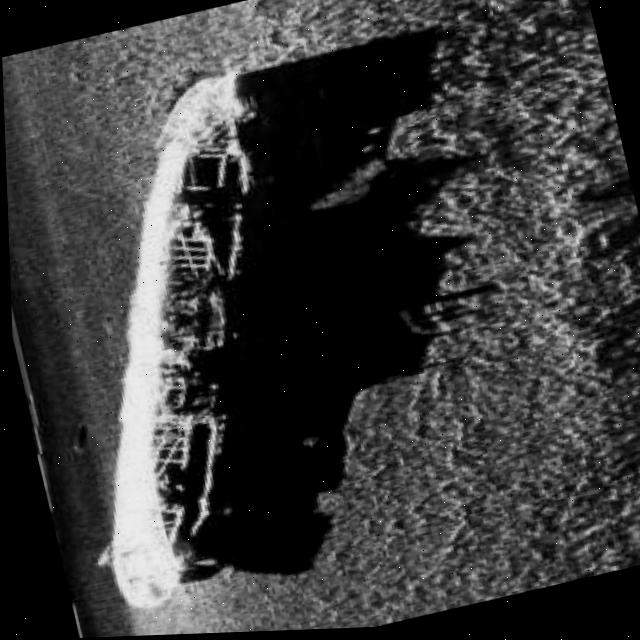shipwreck: (2, 62, 360, 619)
